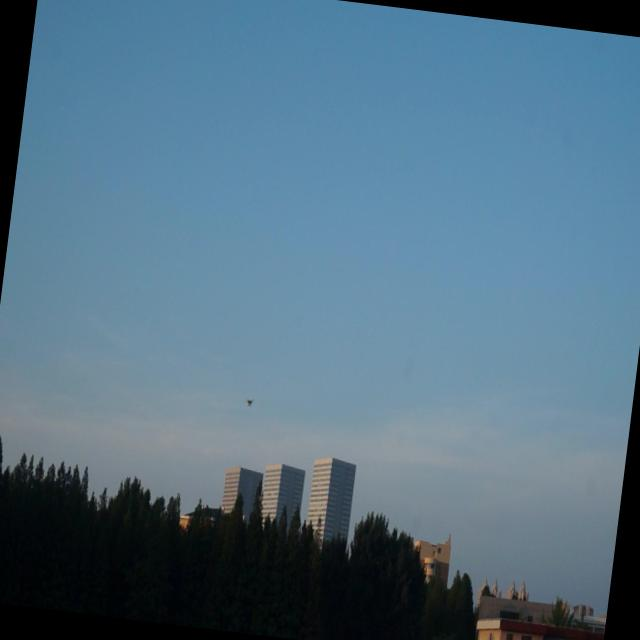drone: (242, 394, 256, 412)
